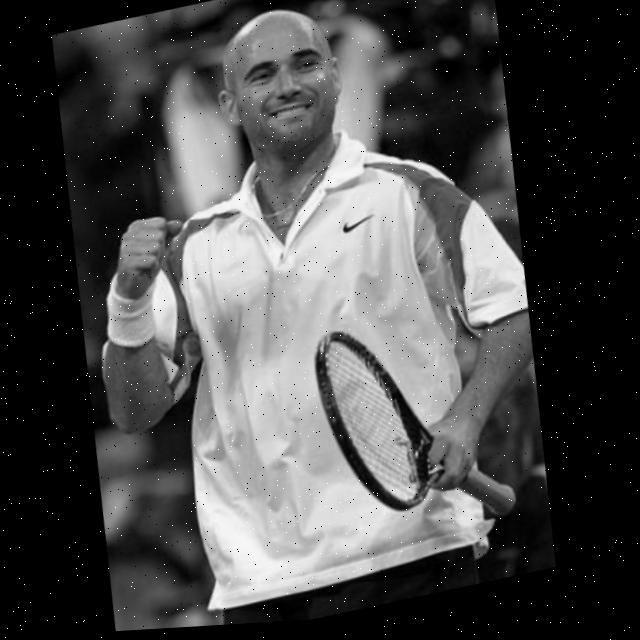face: (201, 0, 362, 182)
